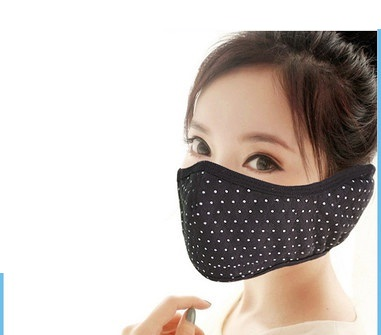face_mask: (177, 74, 329, 268)
